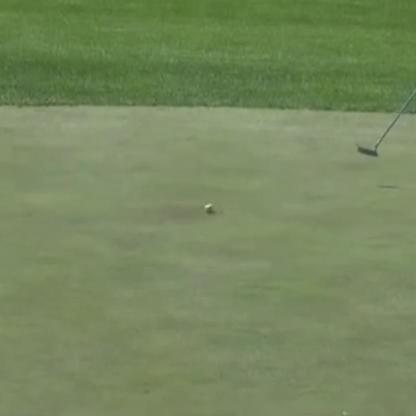golfball: (203, 197, 213, 210)
